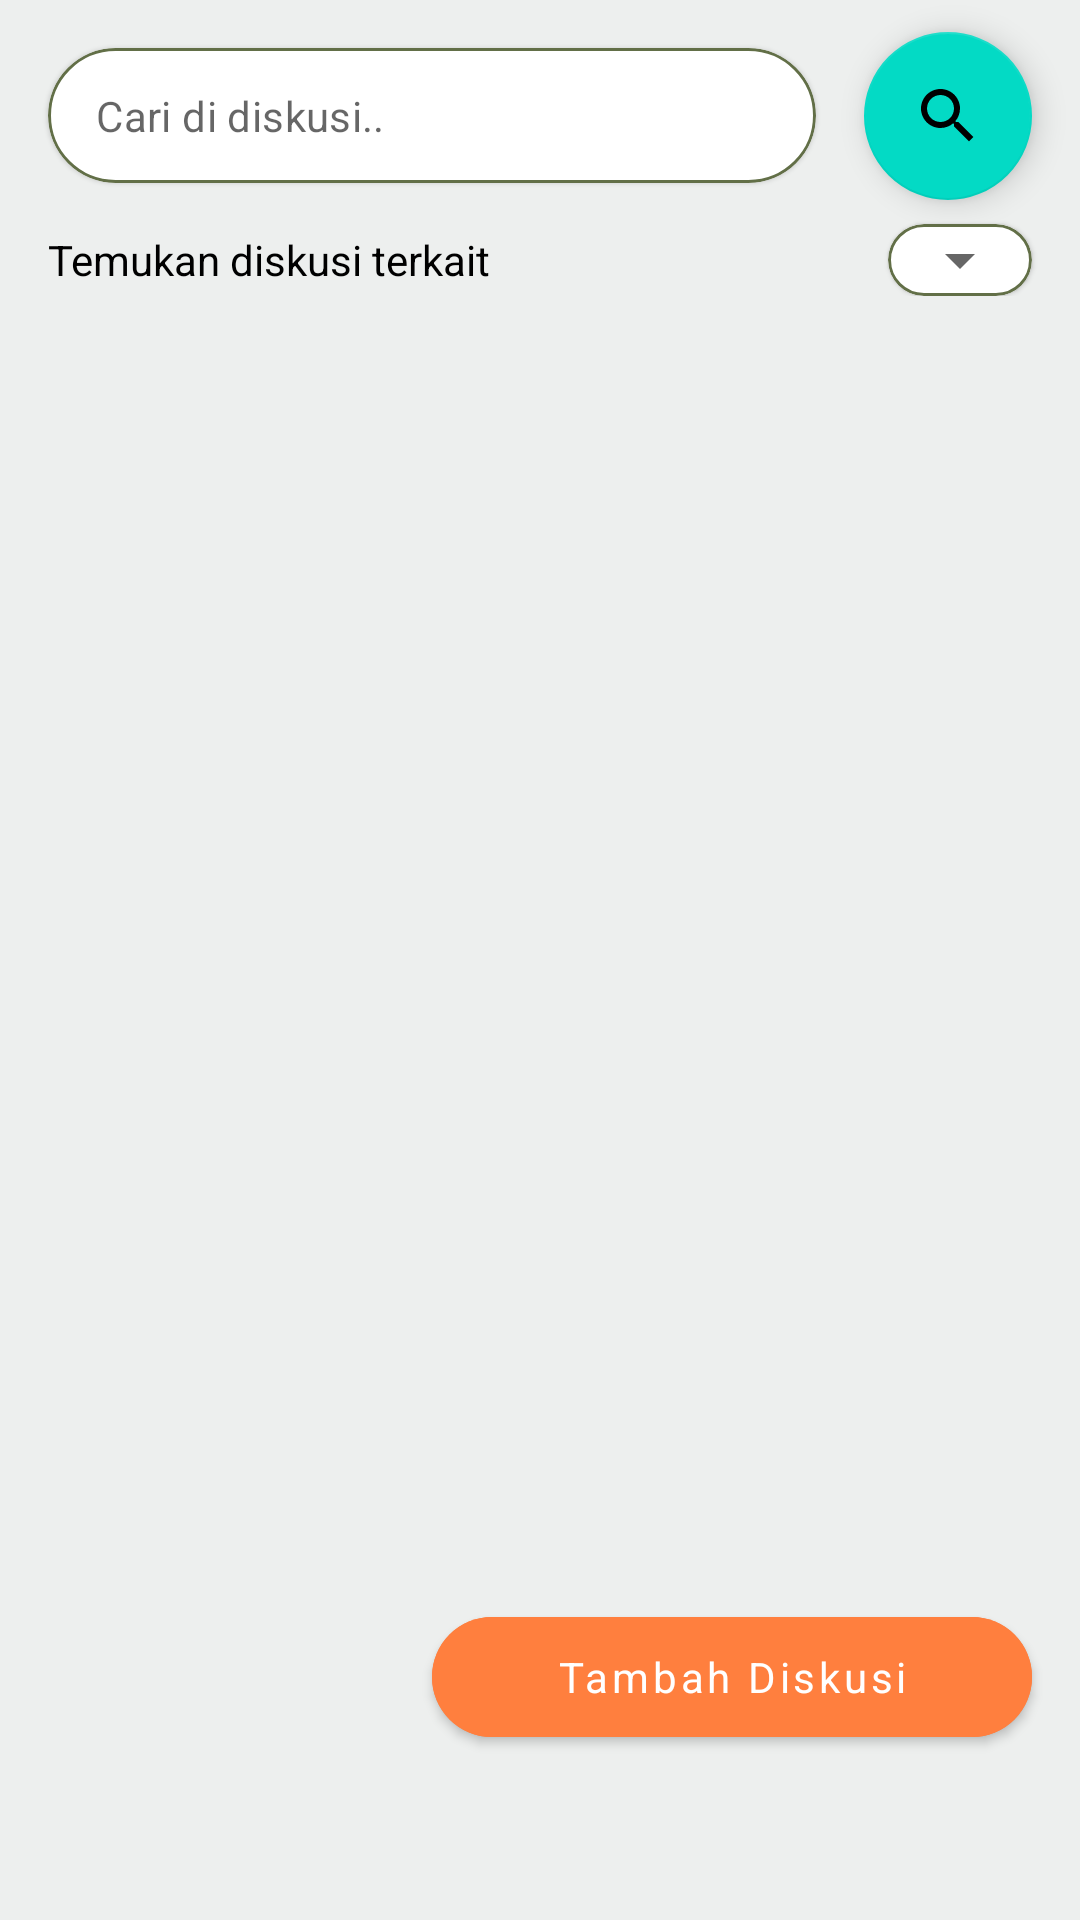

Where to tap for icons on this 1080x1920 app screen, as [x,y]:
Search: [948,116]
